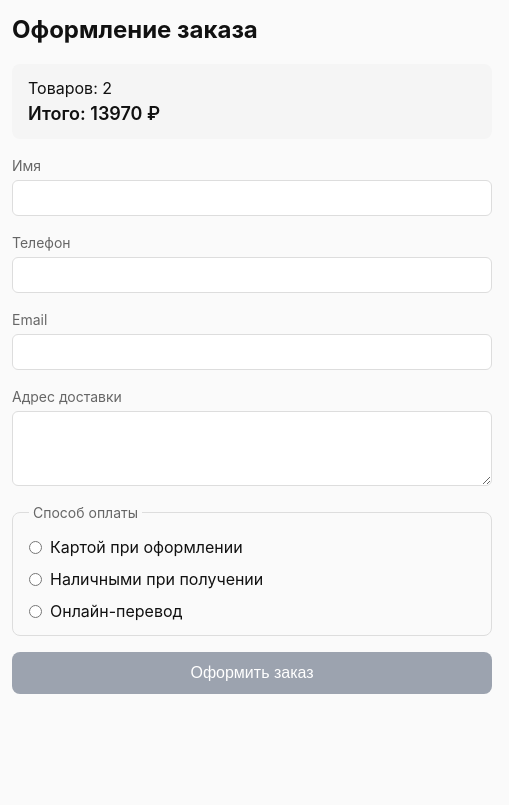
Test: OrderForm › ошибки валидации появляются после касания
In the field labelled "Имя": (252, 198) [12,180,492,216], type "И"
Leave the field labelled "Имя", box [12,180,492,216]
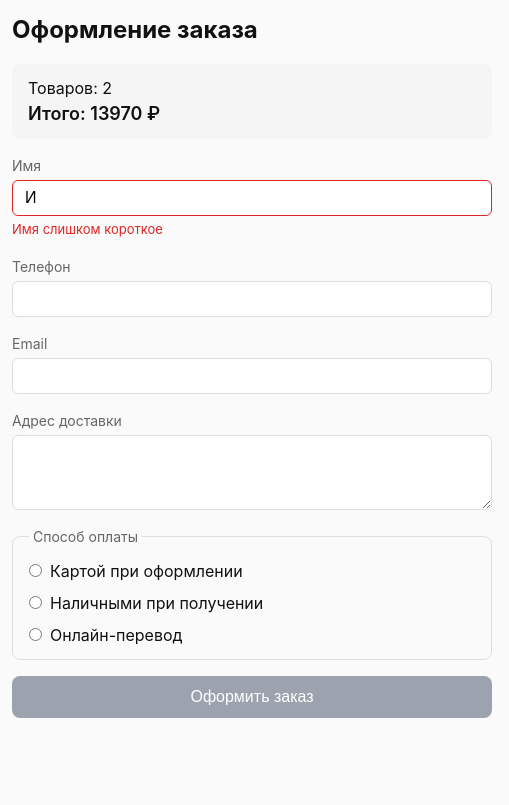
Expected: the message reads "Имя слишком короткое", [12,221,163,237]
In the field labelled "Телефон": (252, 298) [12,280,492,316], type "123"
Leave the field labelled "Телефон", box [12,280,492,316]
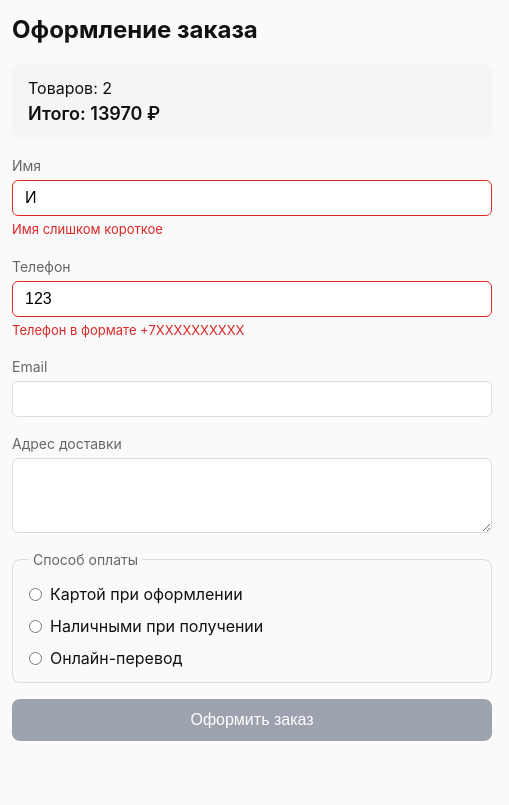
Expected: the text "Телефон в формате +7XXXXXXXXXX" is shown, [12,322,244,338]
In the field labelled "Email": (252, 399) [12,381,492,417], type "bad-email"
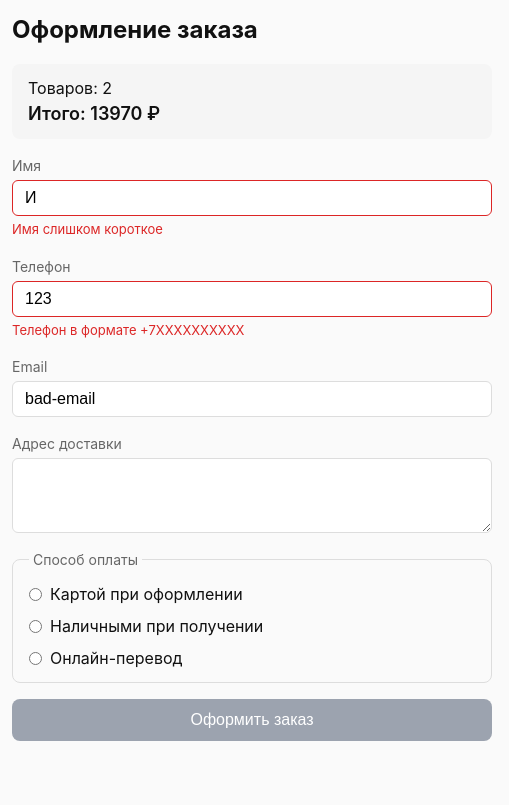
Leave the field labelled "Email", box [12,381,492,417]
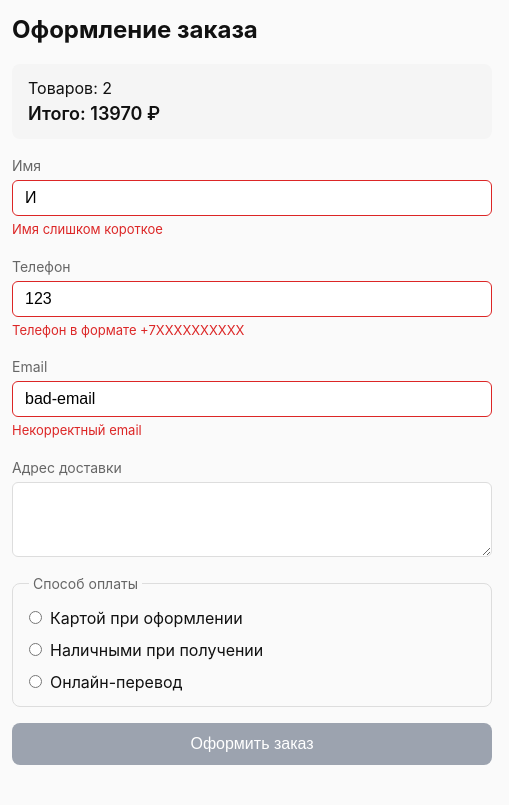
Expected: the text "Некорректный email" is shown, [12,422,142,438]
In the text box labelled "Адрес доставки": (252, 519) [12,482,492,556], type "ул"
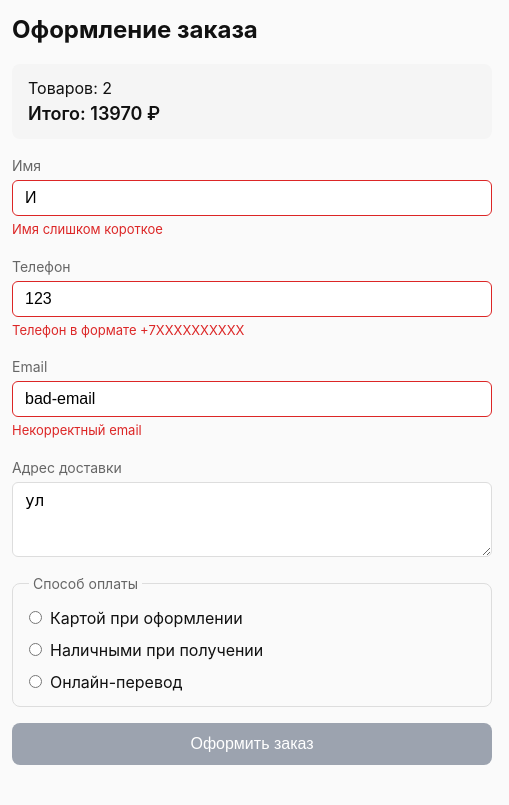
Leave the text box labelled "Адрес доставки", box [12,482,492,556]
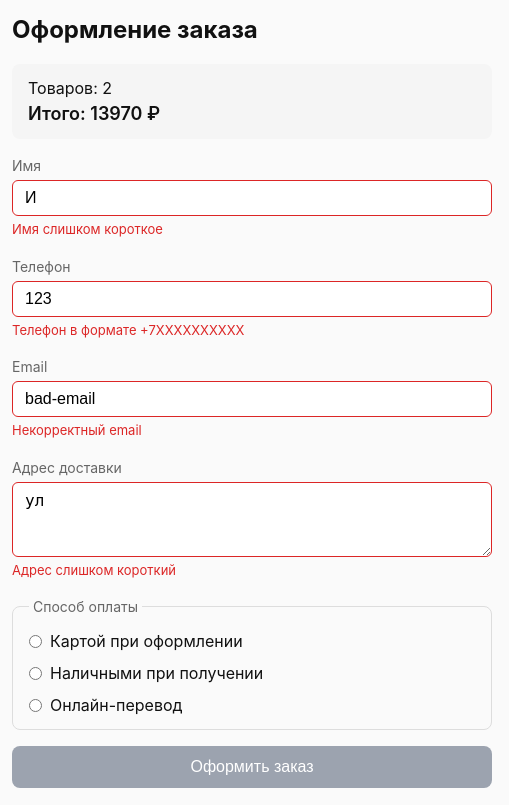
Expected: the text "Адрес слишком короткий" is shown, [12,562,176,578]
